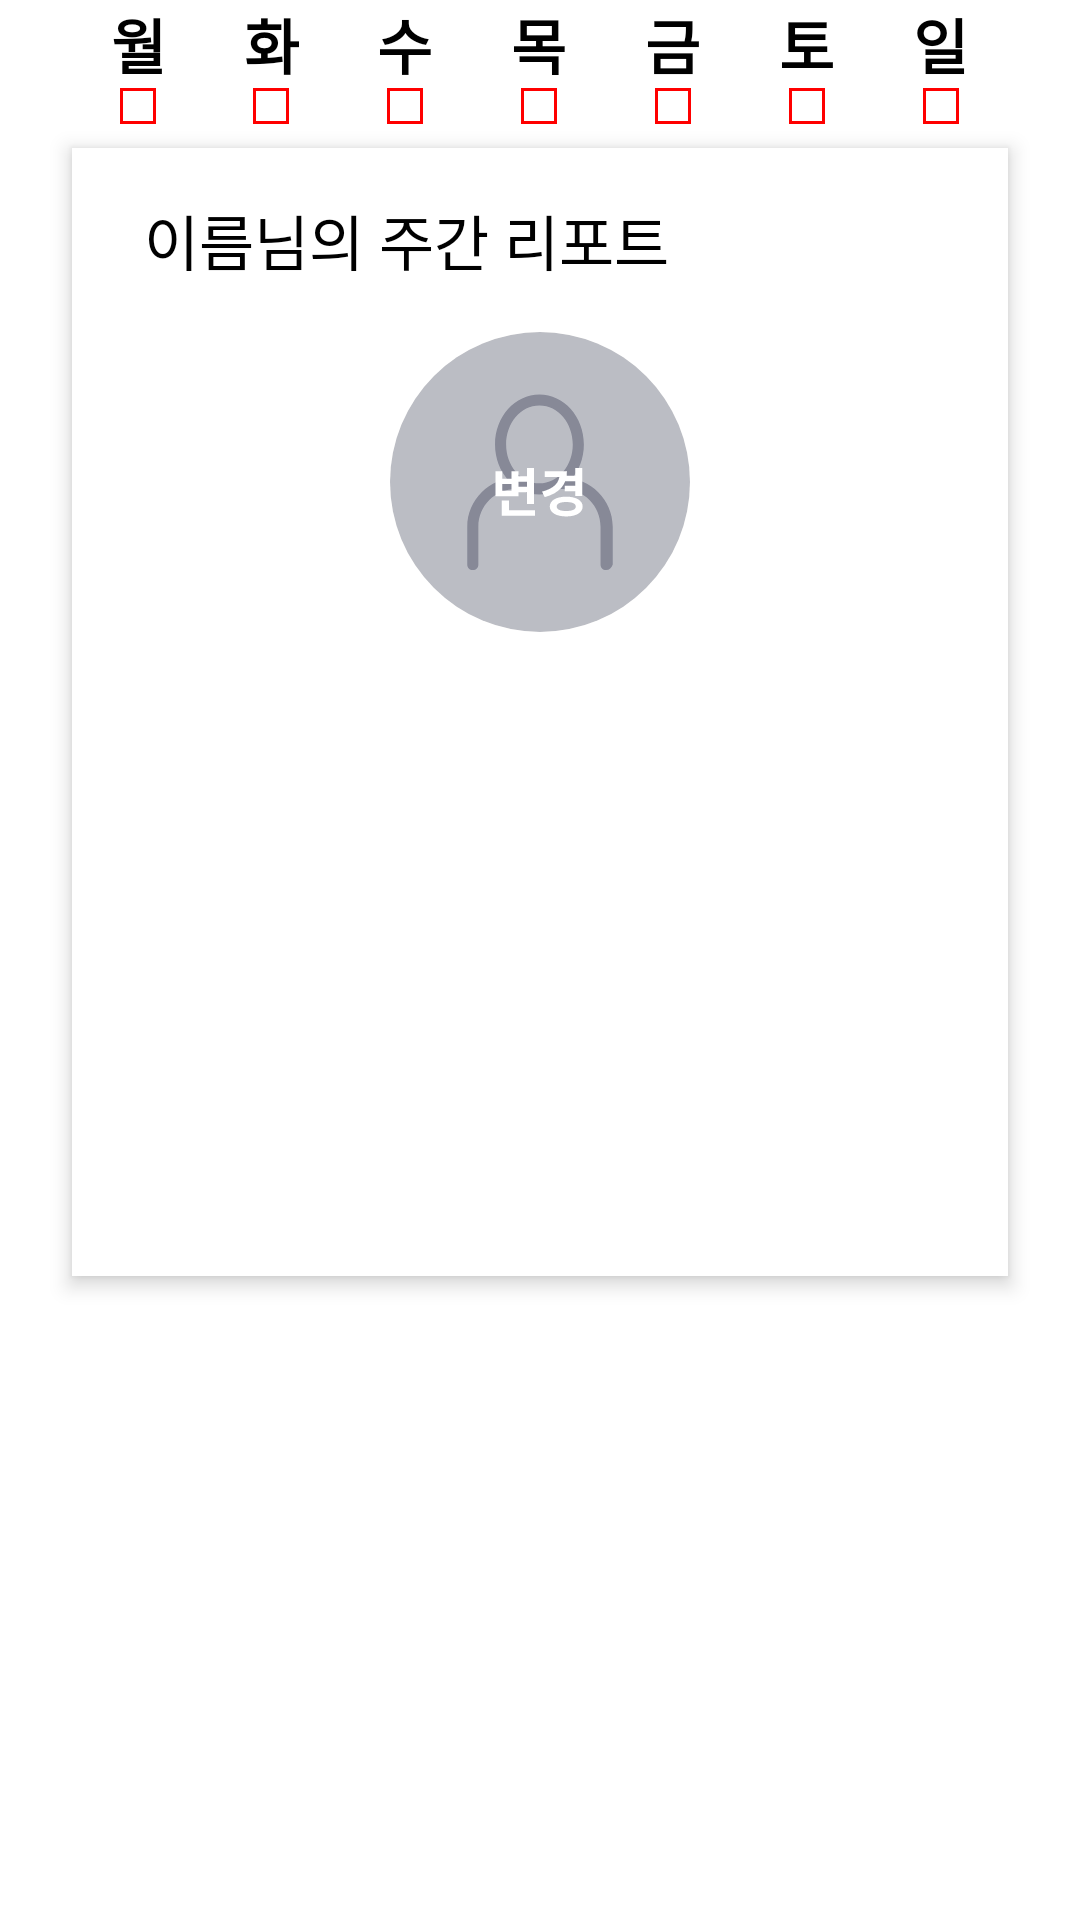

Named icons in this screenshot (1080 x 1920) and their bounding boxes, (x1, y1, x2, y2):
profile: (390, 332, 690, 632)
